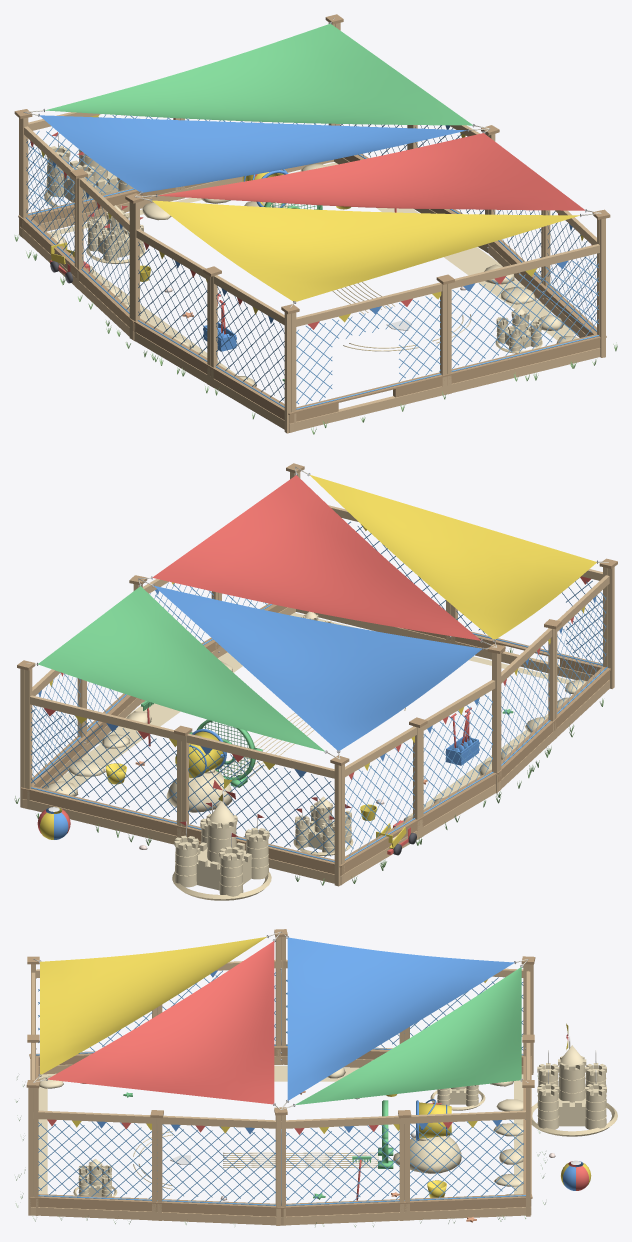
Rendered from SandboxDiamondCage.fbx.
3 views of the same model, one above another, from view 1: azimuth 30°, elevation 25°; view 2: azimuth 150°, elevation 25°; view 3: azimuth 270°, elevation 25° (orthographic). The views are drawn at different scales.
Parts seen in each view (by area): view 1: SandBoards, SandSailGreen, SandSailYellow, SandSailBlue, SandSailRed, SandNet, SandBoardsDark, SandCastle, SandFloor, SandHeaps, SandCastleDark, SandGrass (+1 smaller); view 2: SandBoards, SandSailRed, SandSailBlue, SandSailYellow, SandSailGreen, SandNet, SandBoardsDark, SandCastle, SandHeaps, SandFloor, SandCastleDark, SandPail (+2 smaller); view 3: SandSailRed, SandSailBlue, SandBoards, SandSailYellow, SandSailGreen, SandNet, SandBoardsDark, SandCastle, SandHeaps, SandFloor, SandRakeLines, SandCastleDark (+2 smaller).
Part boxes in pixels (x1,y1,x2,y2): SandBoards: (19,22,605,433); SandSailGreen: (45,23,472,125); SandSailYellow: (151,200,579,301); SandSailBlue: (39,115,467,192); SandSailRed: (158,133,584,210); SandNet: (26,114,599,409); SandBoardsDark: (14,14,610,423); SandCastle: (46,146,541,351); SandFloor: (48,162,575,375); SandHeaps: (50,163,578,402); SandCastleDark: (44,152,542,353); SandGrass: (14,234,617,434); SandBoards: (20,472,614,886); SandSailRed: (152,475,480,640); SandSailBlue: (154,586,482,751); SandSailYellow: (309,474,596,640); SandSailGreen: (38,586,324,751); SandNet: (31,521,607,862); SandBoardsDark: (17,463,617,875); SandCastle: (174,611,351,896); SandHeaps: (45,661,586,840); SandFloor: (56,612,573,828); SandCastleDark: (172,815,353,900); SandPail: (105,731,223,784); SandSailRed: (47,941,274,1104); SandSailBlue: (287,937,514,1100); SandBoards: (28,937,533,1225); SandSailYellow: (40,936,267,1074); SandSailGreen: (295,967,521,1105); SandNet: (36,970,525,1205); SandBoardsDark: (26,929,535,1216); SandCastle: (78,1045,606,1196); SandHeaps: (39,1067,523,1194); SandFloor: (38,1065,523,1194); SandRakeLines: (133,1131,378,1189); SandCastleDark: (73,1074,617,1196).
Bounding box in the file's own units: 1072 × 393 × 1587.
